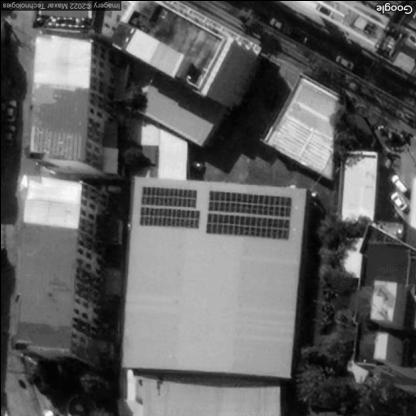solar-pv-panel: (204, 190, 289, 239), (137, 186, 201, 229)
